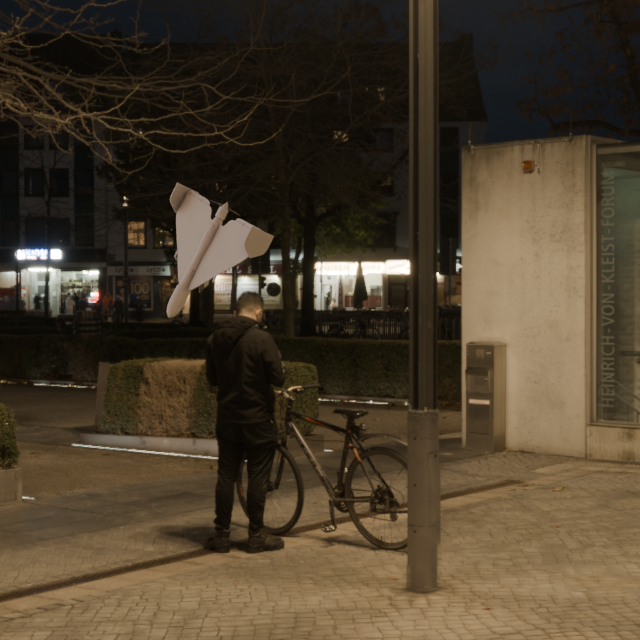shahed: (167, 183, 274, 319)
